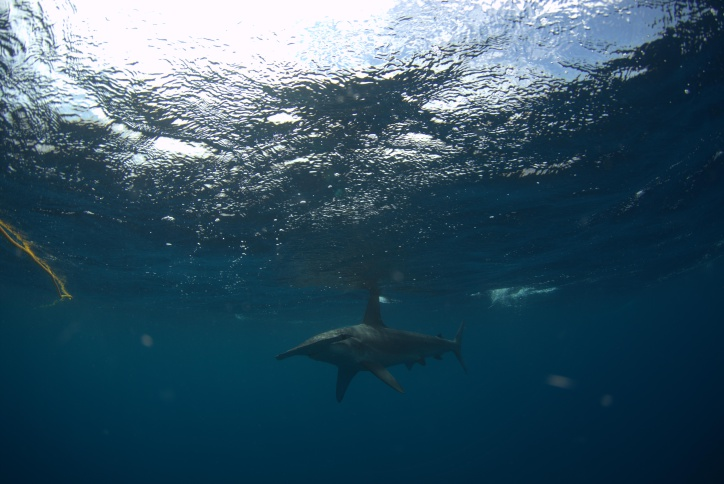Hammer: (232, 262, 490, 413)
